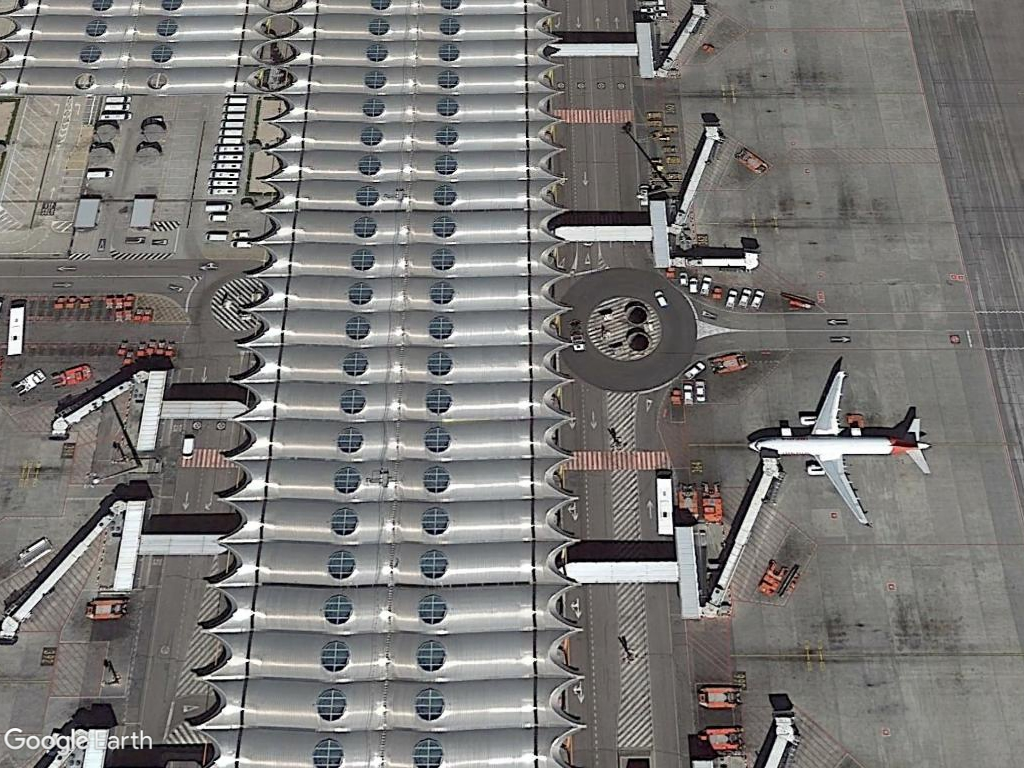airliner: (743, 363, 937, 529)
bus: (5, 303, 27, 361)
pushbacktruck: (694, 723, 745, 753), (756, 556, 789, 602), (693, 683, 743, 710), (698, 478, 726, 526), (49, 363, 93, 393), (733, 143, 771, 177), (706, 349, 751, 377), (82, 596, 129, 621), (8, 367, 47, 396)
